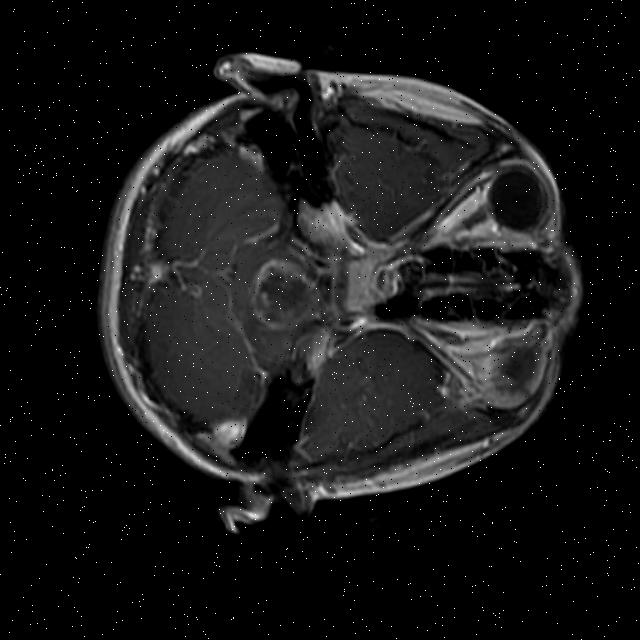Glioma: (241, 253, 322, 335)
Pituitary: (337, 256, 403, 313)
